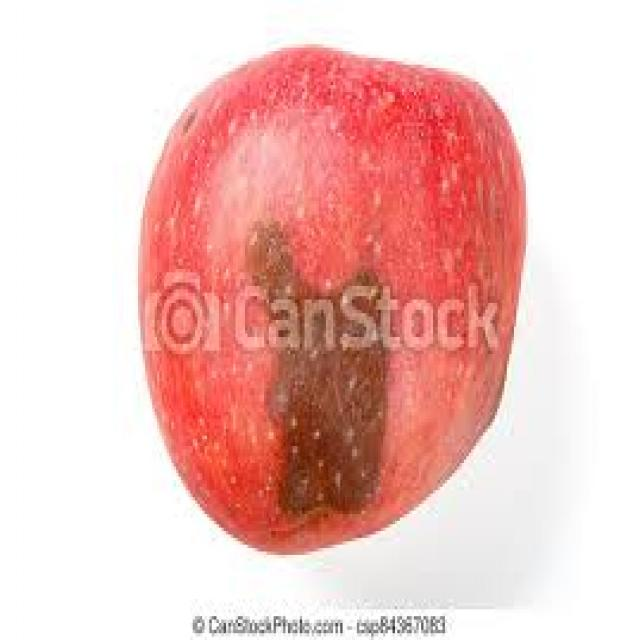Rotten: (139, 54, 516, 534)
